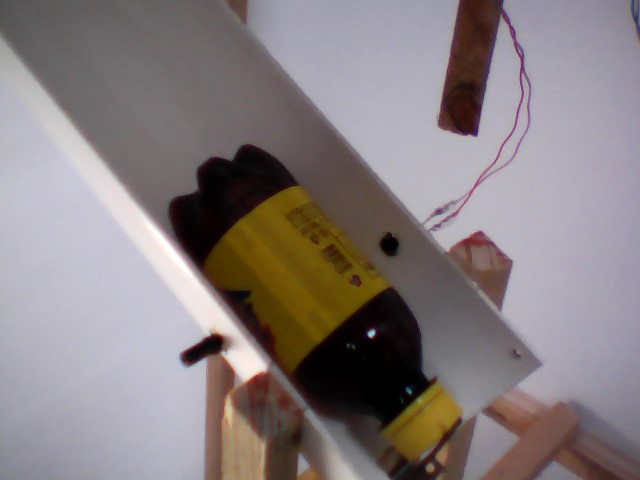plastico: (162, 141, 477, 480)
